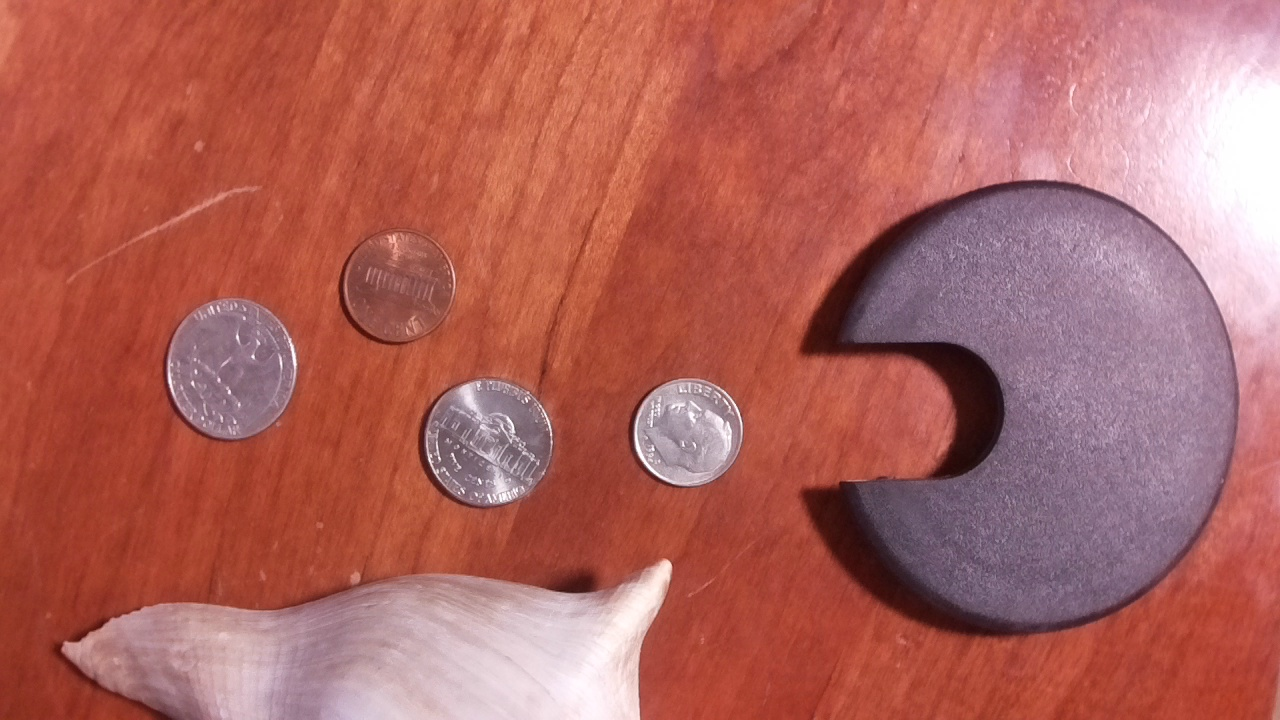dime: (628, 376, 743, 490)
nickel: (417, 377, 556, 509)
penny: (338, 229, 457, 347)
quarter: (162, 297, 302, 439)
